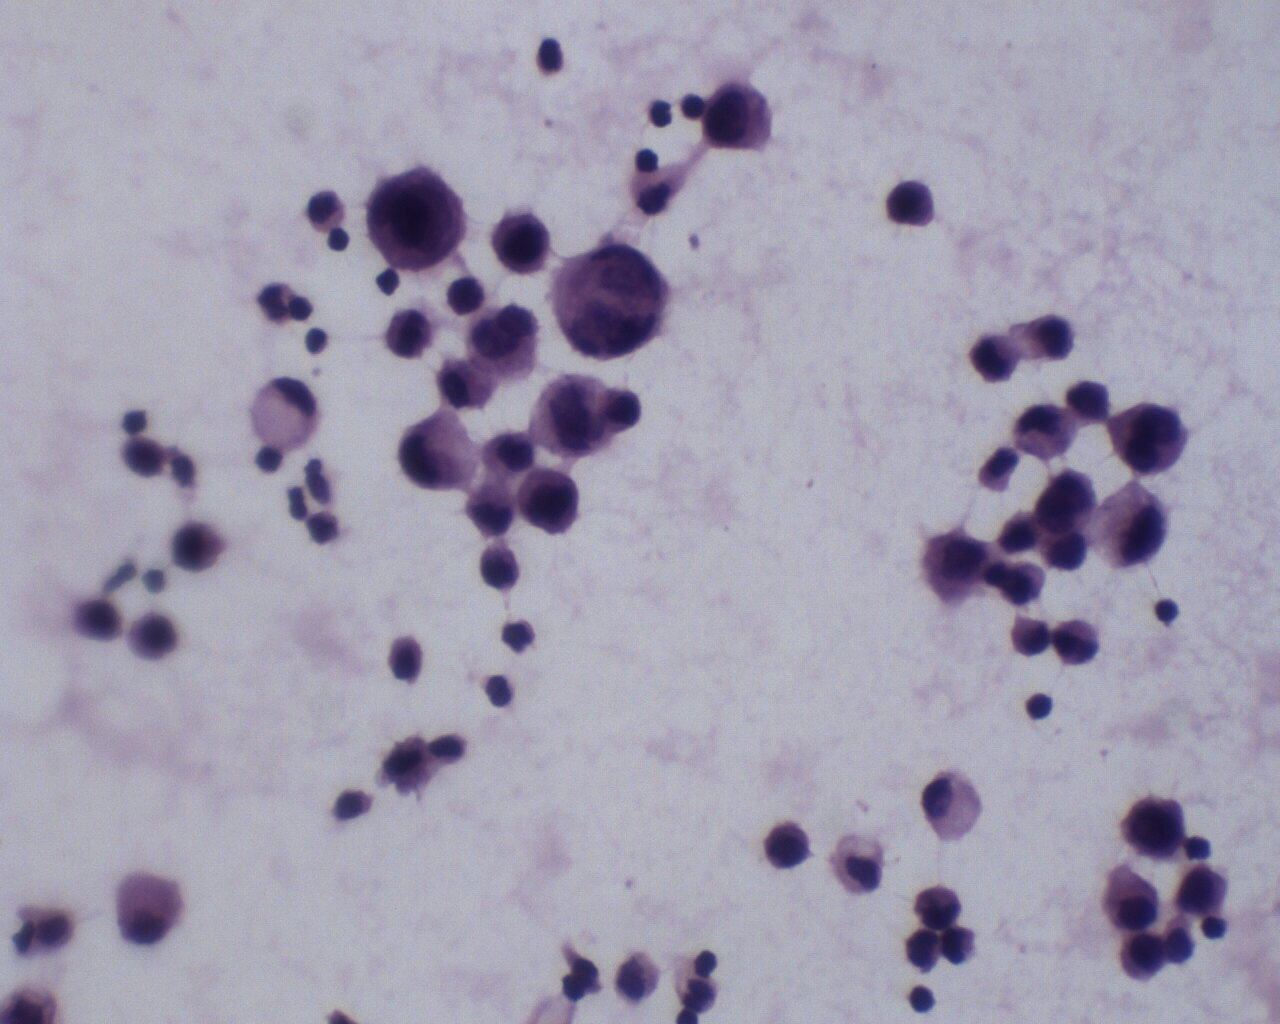ab: (550, 238, 667, 360), (365, 166, 476, 274), (698, 76, 778, 160), (1112, 401, 1192, 480), (921, 527, 991, 610), (514, 468, 590, 539), (1034, 465, 1102, 538), (1120, 789, 1188, 861), (492, 208, 555, 279), (1171, 861, 1232, 916), (888, 178, 941, 234), (764, 818, 812, 876)
histo: (915, 768, 986, 846), (251, 375, 320, 456)
lymph: (906, 978, 942, 1015), (1025, 686, 1058, 725)
meso: (1101, 872, 1163, 932)
